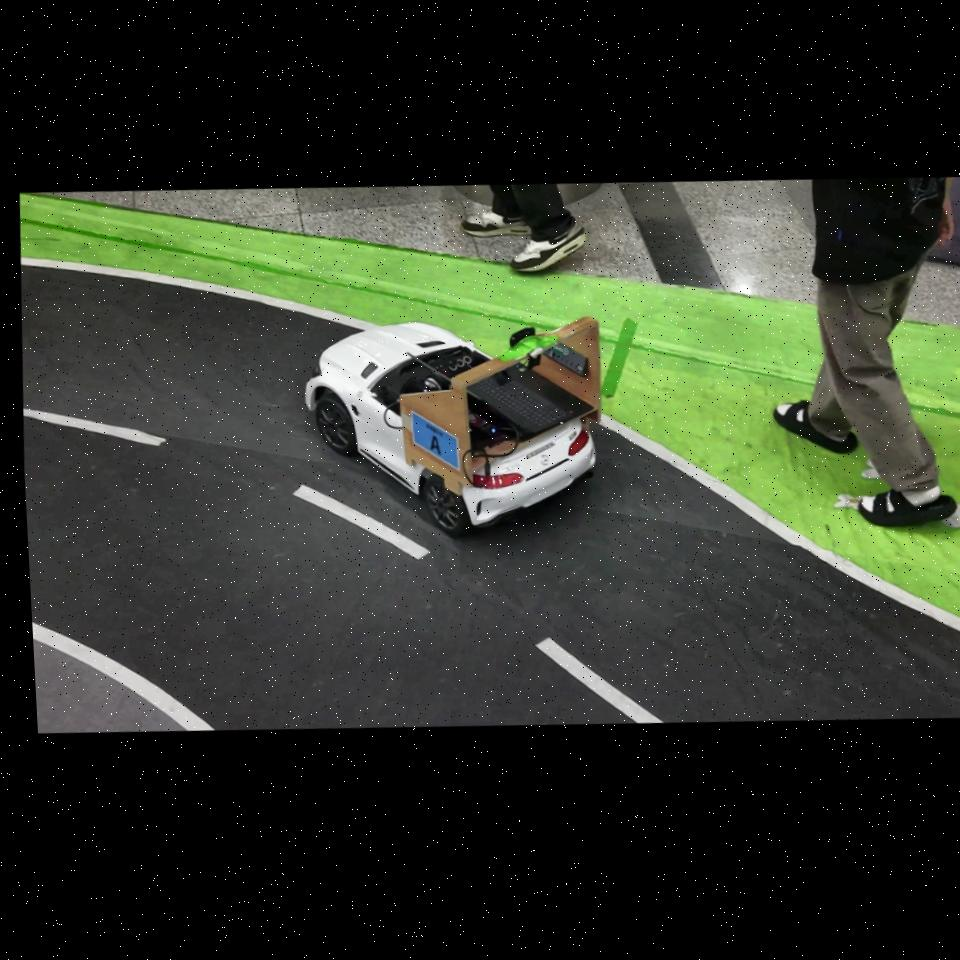broken_line: (536, 638, 663, 723), (293, 485, 429, 558), (23, 409, 167, 445)
